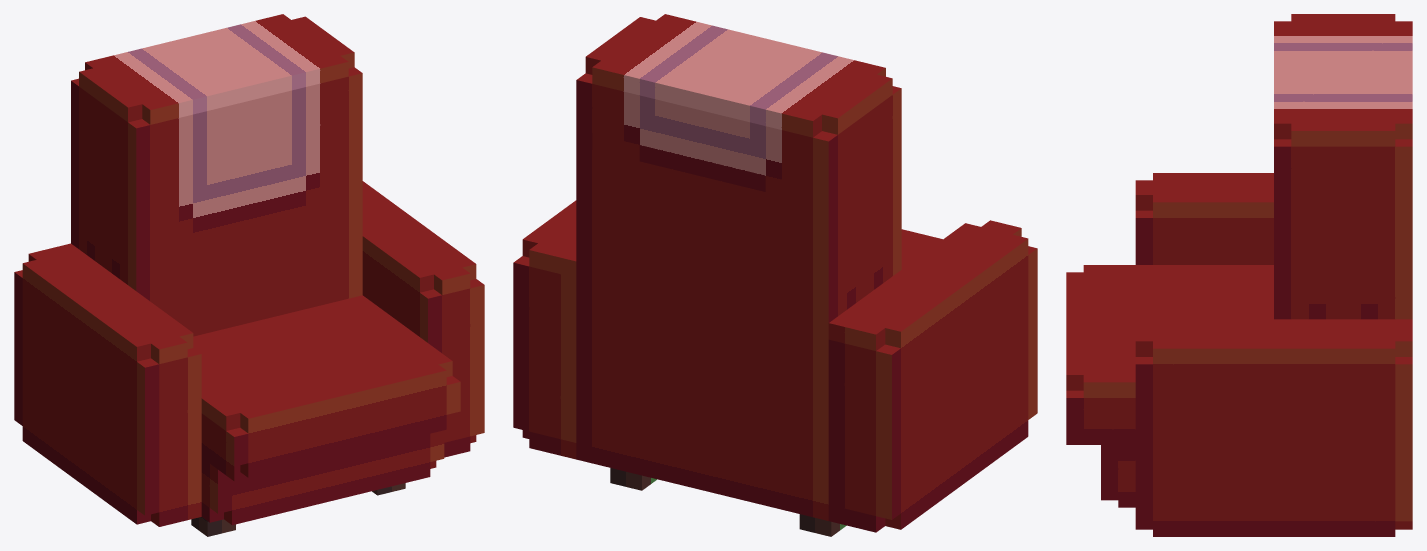
File: int_parlor_chairao.fezao.glb
3 renders of one model, left to right at view 1: azimuth 30°, elevation 25°; view 2: azimuth 150°, elevation 25°; view 3: azimuth 270°, elevation 25°, orthographic. The views are drawn at different scales.
Parts seen in each view (by area): view 1: INT_PARLOR_CHAIRAO; view 2: INT_PARLOR_CHAIRAO; view 3: INT_PARLOR_CHAIRAO.
Boxes of the visible parts, x1,y1,x2,y2 form: INT_PARLOR_CHAIRAO: [14, 14, 484, 536]; INT_PARLOR_CHAIRAO: [513, 14, 1037, 536]; INT_PARLOR_CHAIRAO: [1066, 14, 1412, 536].
Bounding box in the file's own units: 1.5 × 1.62 × 1.25.
Materials: 1 (1 with a texture image).
